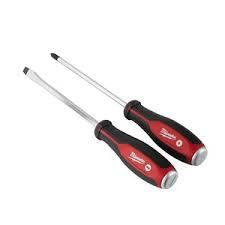screwdriver: (21, 64, 178, 188), (47, 50, 208, 166)
